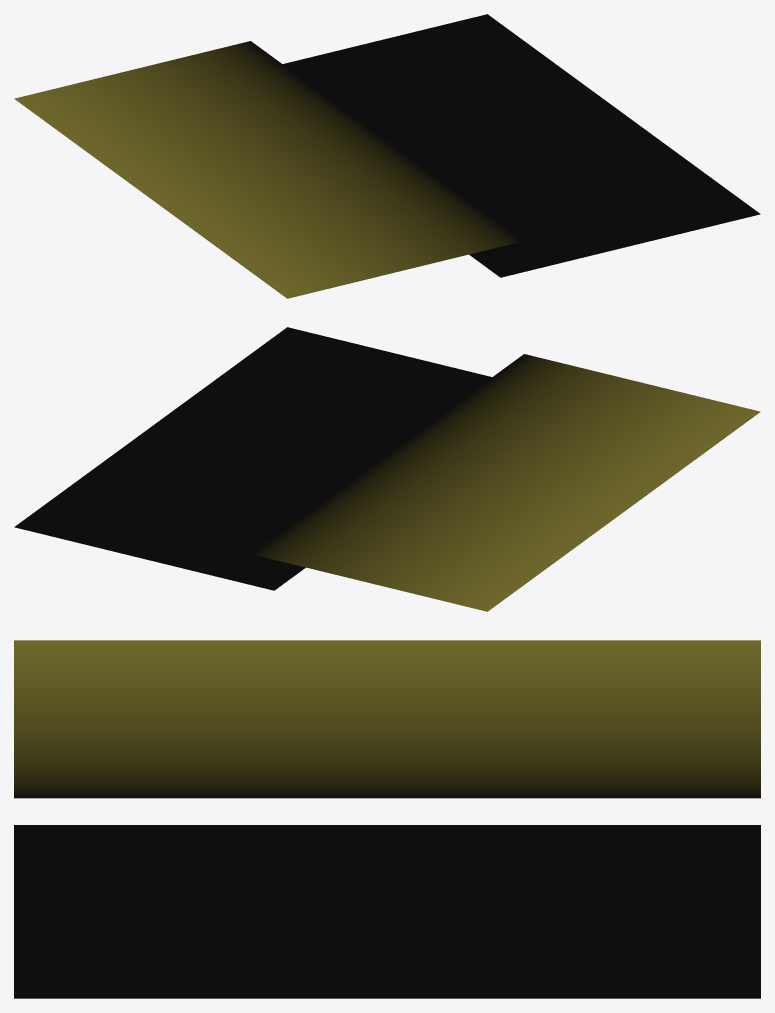
3 renders of one model, top to bottom at view 1: azimuth 30°, elevation 25°; view 2: azimuth 150°, elevation 25°; view 3: azimuth 270°, elevation 25°, orthographic. The views are drawn at different scales.
Size of the model in its own units: 1 by 0.0625 by 1.
1 material, 1 textured.
